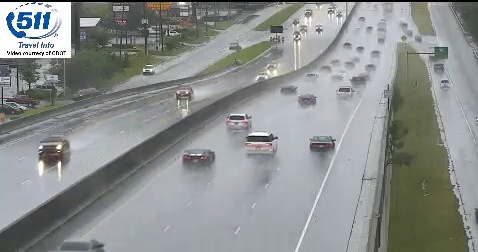car: (246, 132, 277, 155), (183, 149, 214, 168), (226, 113, 253, 131), (309, 135, 334, 153)
